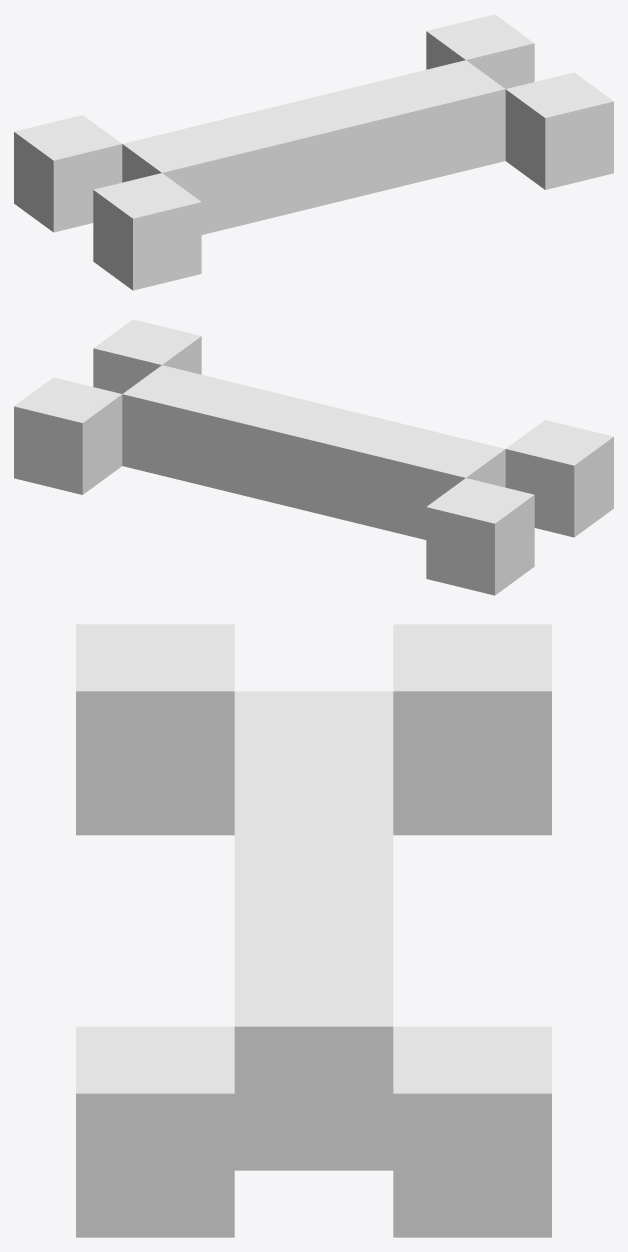
File: chapter1_Bone.fbx
3 renders of one model, top to bottom at view 1: azimuth 30°, elevation 25°; view 2: azimuth 150°, elevation 25°; view 3: azimuth 270°, elevation 25°, orthographic. The views are drawn at different scales.
Visible parts, largest first — view 1: Matrix_1; view 2: Matrix_1; view 3: Matrix_1.
Boxes of the visible parts, x1,y1,x2,y2 form: Matrix_1: [14, 14, 613, 290]; Matrix_1: [14, 319, 613, 595]; Matrix_1: [76, 624, 551, 1237].
Bounding box in the file's own units: 14 × 2 × 6.
